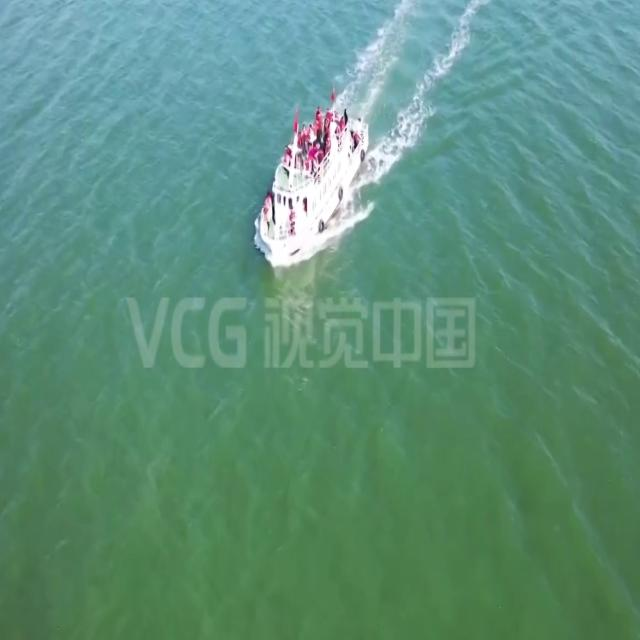houseboat: (252, 95, 370, 264)
